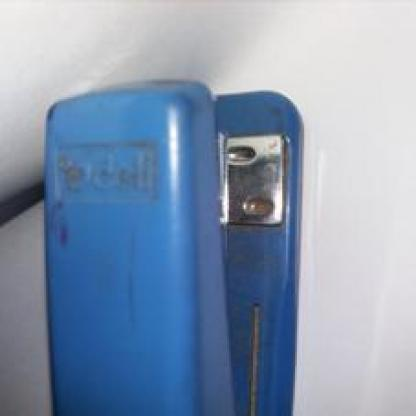stapler: (39, 66, 350, 414)
